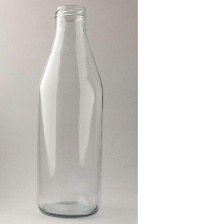bottle: (34, 3, 105, 218)
